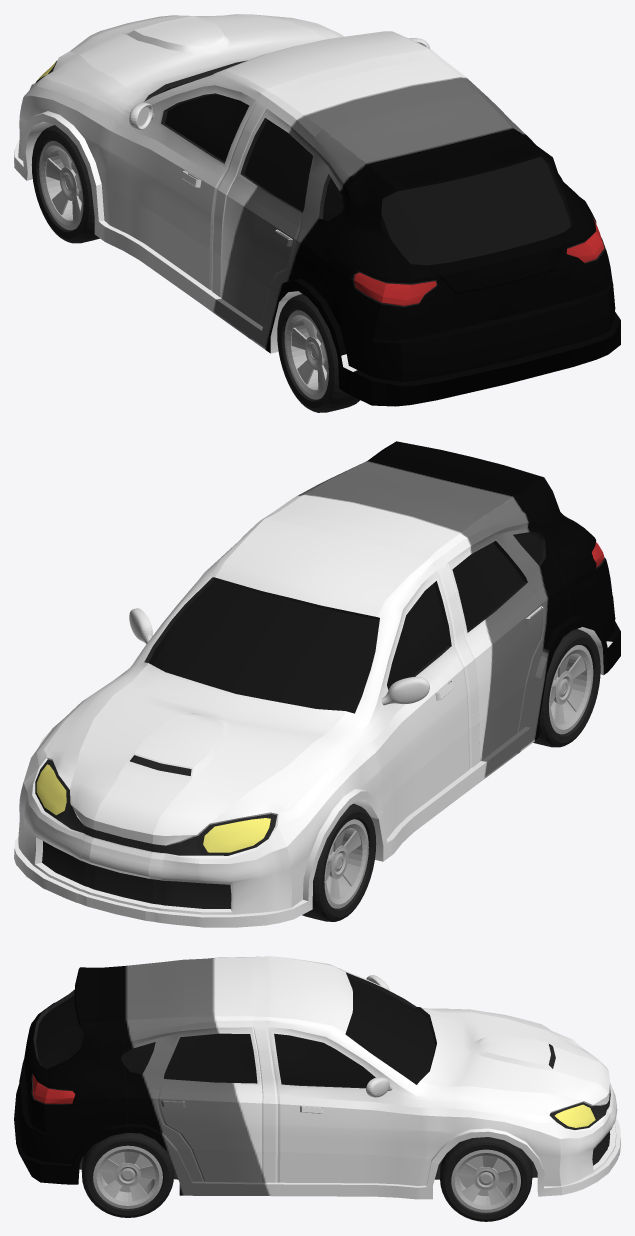
The model's file is Sunaru_Arteza.fbx.
3 renders of one model, top to bottom at view 1: azimuth 30°, elevation 25°; view 2: azimuth 150°, elevation 25°; view 3: azimuth 270°, elevation 25°, orthographic. The views are drawn at different scales.
Visible parts, largest first — view 1: Sunaru Arteza, Circle.045, Circle.017; view 2: Sunaru Arteza, Circle.017, Circle.045, Cube.009; view 3: Sunaru Arteza, Circle.018, Circle.016, Cube.015.
Part boxes in pixels (box(x1,y1,x2,y2)): Sunaru Arteza: box(14, 14, 620, 406); Circle.045: box(277, 294, 359, 412); Circle.017: box(31, 125, 99, 243); Sunaru Arteza: box(14, 441, 620, 927); Circle.017: box(302, 803, 376, 921); Circle.045: box(533, 629, 600, 747); Cube.009: box(381, 677, 429, 705); Sunaru Arteza: box(14, 956, 620, 1199); Circle.018: box(440, 1137, 532, 1221); Circle.016: box(81, 1133, 174, 1217); Cube.015: box(366, 1077, 392, 1097).
Size of the model in its own units: 161 by 126 by 370.
4 materials, 3 textured.
